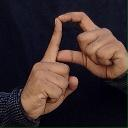D: (25, 10, 127, 114)
